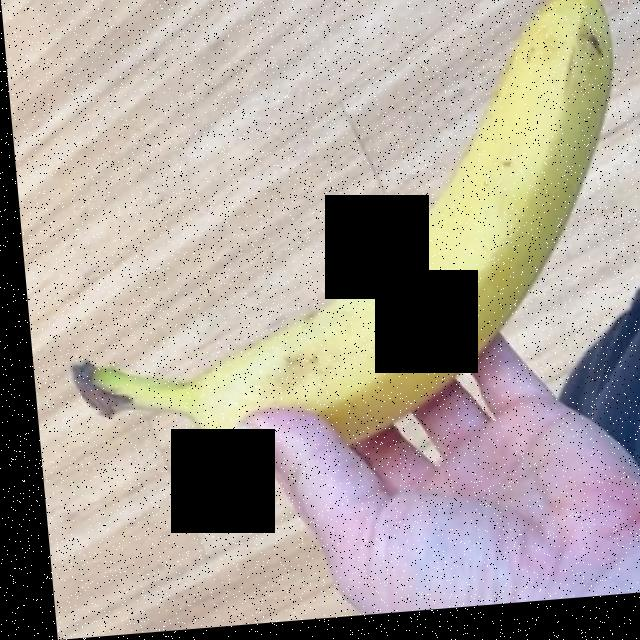banana: (79, 8, 604, 443)
